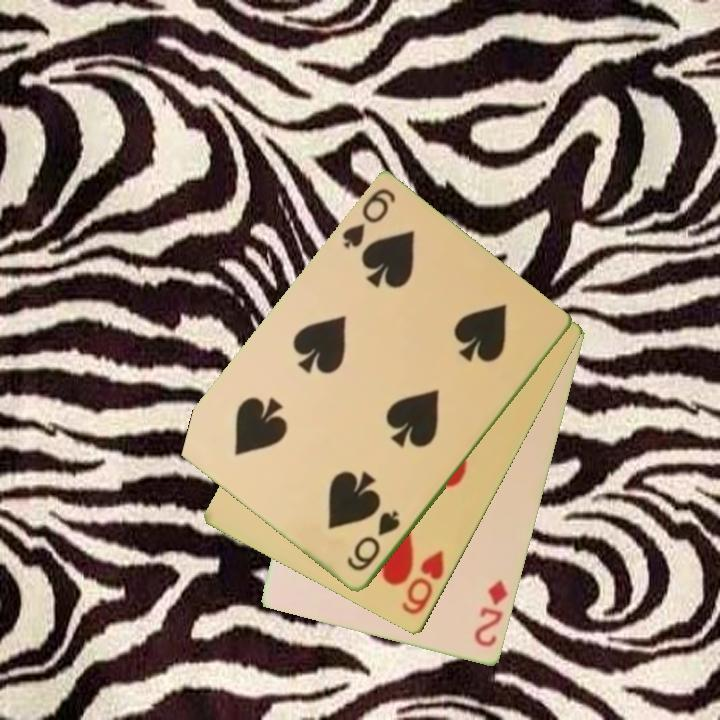2d: (471, 577, 512, 651)
6h: (398, 547, 448, 619)
6s: (343, 507, 404, 575), (338, 185, 399, 252)
